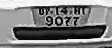0: (55, 16, 63, 27)
1: (55, 6, 60, 16)
4: (60, 6, 69, 16)
7: (63, 13, 72, 27), (72, 15, 82, 27)
9: (45, 15, 54, 26)
H: (72, 6, 81, 16)
P: (44, 6, 51, 16)
T: (79, 4, 88, 16)
U: (38, 6, 45, 16)
